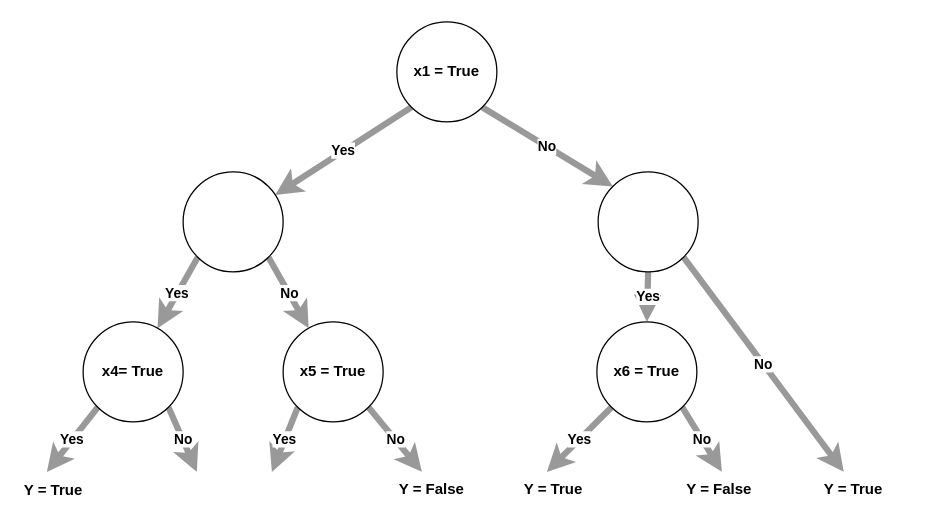
The diagram is 930 pixels wide and 531 high, and some of its shapes have lost their labels. Each missing label, with the centre of its shape:
"x2 = True" goes at [232,221].
"x3 = True" goes at [647,221].
